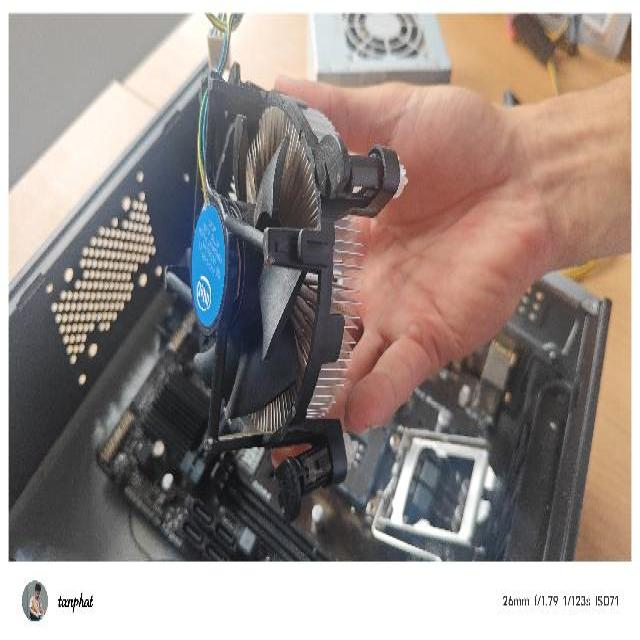CPU_Fan: (155, 80, 411, 522)
